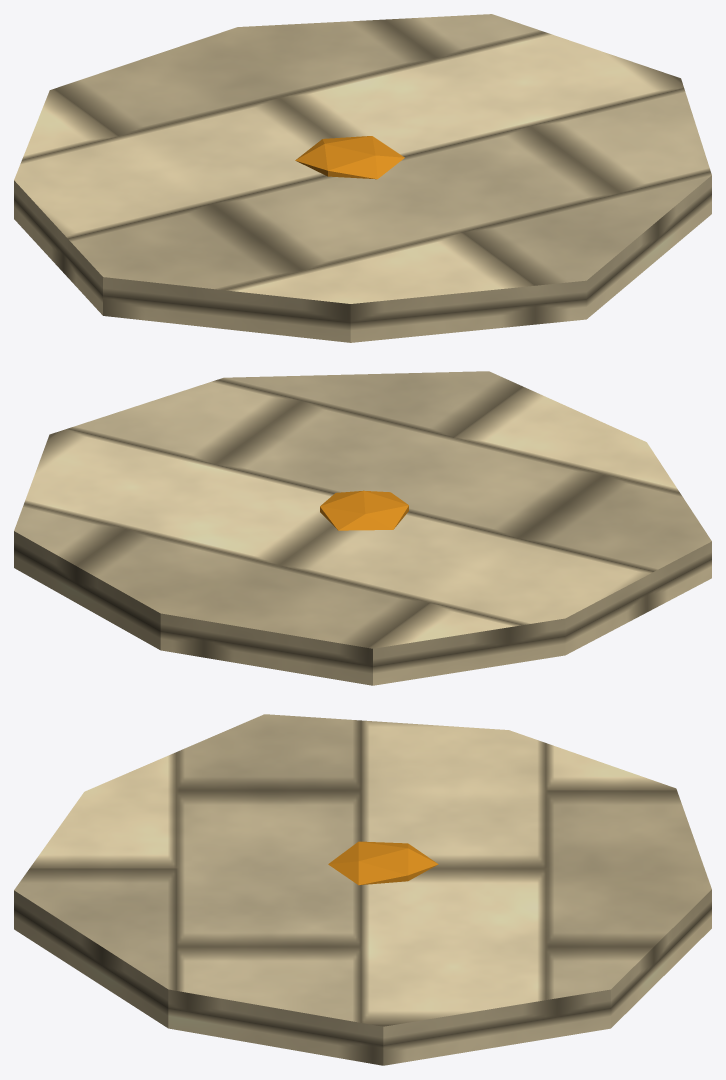
Rendered from path_slab_sky_b.glb.
The picture shows the model from 3 angles, top to bottom: view 1: azimuth 30°, elevation 25°; view 2: azimuth 150°, elevation 25°; view 3: azimuth 270°, elevation 25°; orthographic projection. The views are drawn at different scales.
Parts seen in each view (by area): view 1: path_slab_sky_b; view 2: path_slab_sky_b; view 3: path_slab_sky_b.
Part boxes in pixels (x1,y1,x2,y2): path_slab_sky_b: (14,14,711,342); path_slab_sky_b: (14,371,711,685); path_slab_sky_b: (14,714,711,1065).
Size of the model in its own units: 1.2 by 0.087 by 1.13.
Materials: 2 (1 with a texture image).
